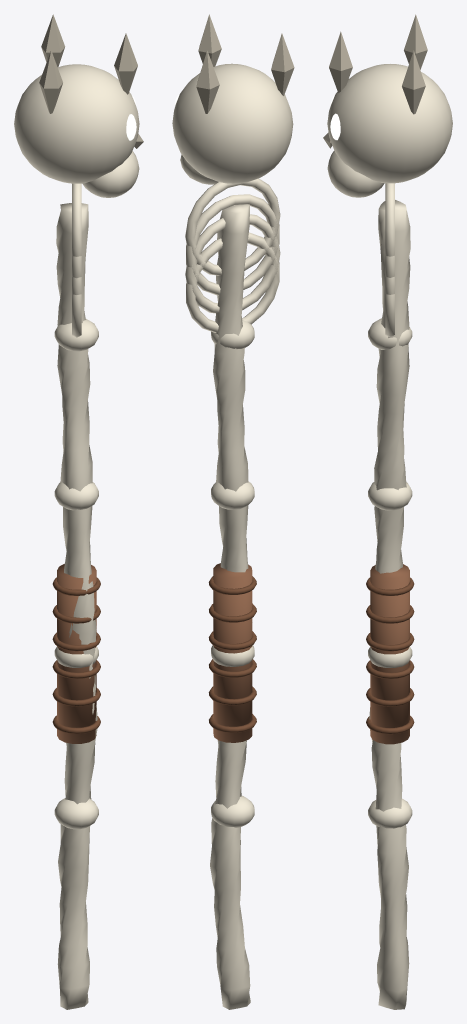
File: cajado-ossos-necromante-490.glb
3 views of the same model, side by side, from view 1: azimuth 90°, elevation 25°; view 2: azimuth 210°, elevation 25°; view 3: azimuth 270°, elevation 25° (orthographic).
Visible parts, largest first — view 1: cajado-ossos-necromante; view 2: cajado-ossos-necromante; view 3: cajado-ossos-necromante.
Part boxes in pixels (left/top/right/bottom): cajado-ossos-necromante: left=14, top=14, right=143, bottom=1009; cajado-ossos-necromante: left=172, top=14, right=294, bottom=1009; cajado-ossos-necromante: left=323, top=14, right=452, bottom=1009.
Size of the model in its own units: 0.17 by 1.52 by 0.1846.
